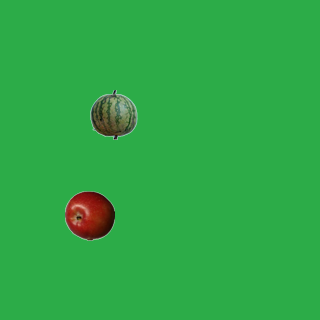Apple Braeburn: (64, 190, 114, 240)
Watermelon: (88, 89, 138, 139)
